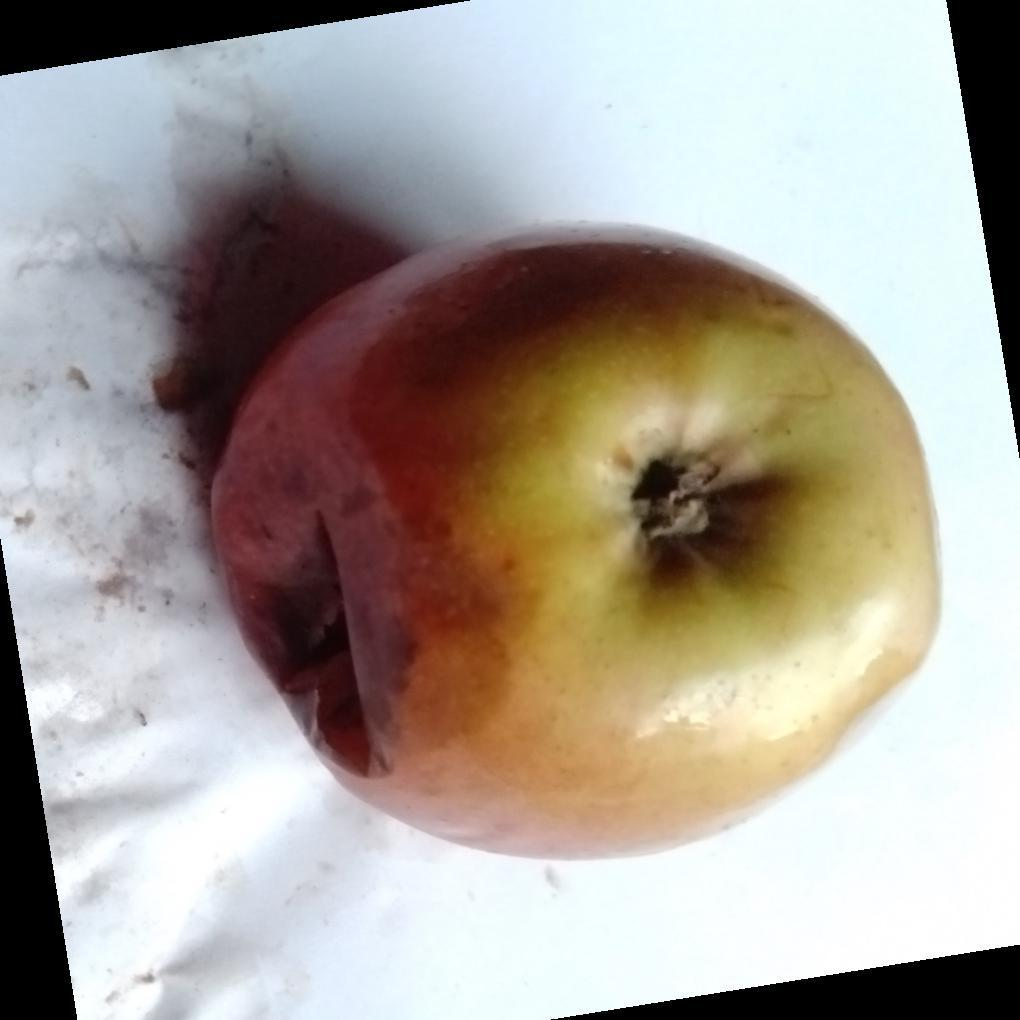FreshOrange: (205, 225, 944, 867)
